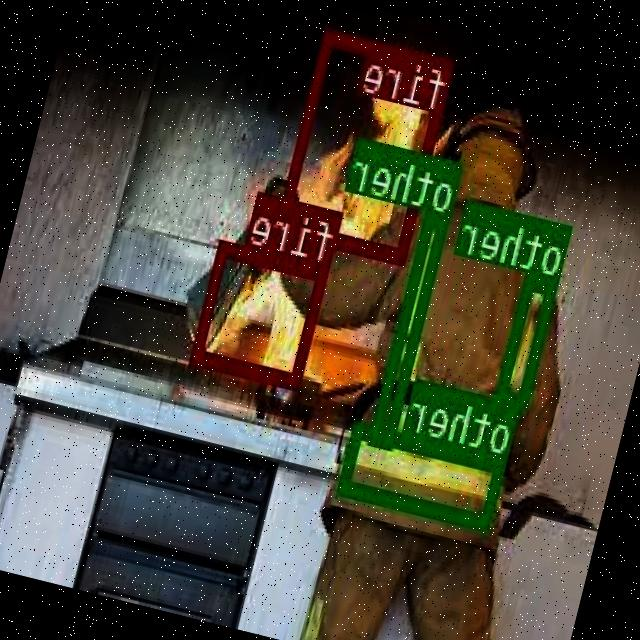fire: (279, 28, 458, 261), (192, 239, 332, 388)
